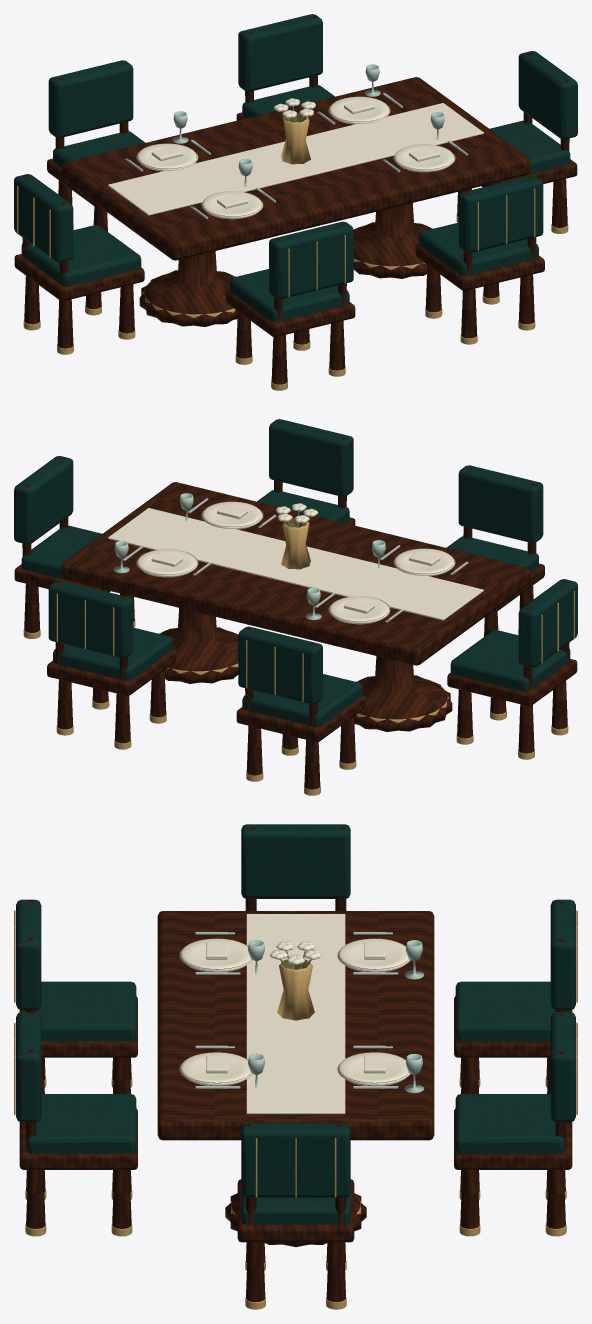
The model's file is hotel-dining-table.glb.
The picture shows the model from 3 angles, top to bottom: view 1: azimuth 30°, elevation 25°; view 2: azimuth 150°, elevation 25°; view 3: azimuth 270°, elevation 25°; orthographic projection. The views are drawn at different scales.
Visible parts, largest first — view 1: Static | Walnut | original longitudinal grain.002, Static | Petrol velvet | original woven texture.002, Static | Warm ivory porcelain.002, Static | Aged champagne brass.002, Static | Smoked pale glass.002, Static | Polished stainless details.002; view 2: Static | Walnut | original longitudinal grain.002, Static | Petrol velvet | original woven texture.002, Static | Warm ivory porcelain.002, Static | Aged champagne brass.002, Static | Smoked pale glass.002, Static | Polished stainless details.002; view 3: Static | Walnut | original longitudinal grain.002, Static | Petrol velvet | original woven texture.002, Static | Warm ivory porcelain.002, Static | Aged champagne brass.002, Static | Smoked pale glass.002, Static | Polished stainless details.002.
Boxes of the visible parts, x1,y1,x2,y2 form: Static | Walnut | original longitudinal grain.002: (14,16,577,384); Static | Petrol velvet | original woven texture.002: (14,14,577,321); Static | Warm ivory porcelain.002: (108,97,483,219); Static | Aged champagne brass.002: (17,96,568,390); Static | Smoked pale glass.002: (172,64,444,186); Static | Polished stainless details.002: (125,93,468,219); Static | Walnut | original longitudinal grain.002: (14,421,577,789); Static | Petrol velvet | original woven texture.002: (14,419,577,726); Static | Warm ivory porcelain.002: (108,502,483,624); Static | Aged champagne brass.002: (23,501,574,795); Static | Smoked pale glass.002: (113,493,385,620); Static | Polished stainless details.002: (122,498,468,622); Static | Walnut | original longitudinal grain.002: (19,827,572,1302); Static | Petrol velvet | original woven texture.002: (16,824,575,1224); Static | Warm ivory porcelain.002: (179,914,410,1114); Static | Aged champagne brass.002: (14,910,577,1309); Static | Smoked pale glass.002: (248,940,424,1093); Static | Polished stainless details.002: (195,932,398,1088).
Size of the model in its own units: 4.1 by 1.28 by 3.14.
Materials: 8 (2 with a texture image).
